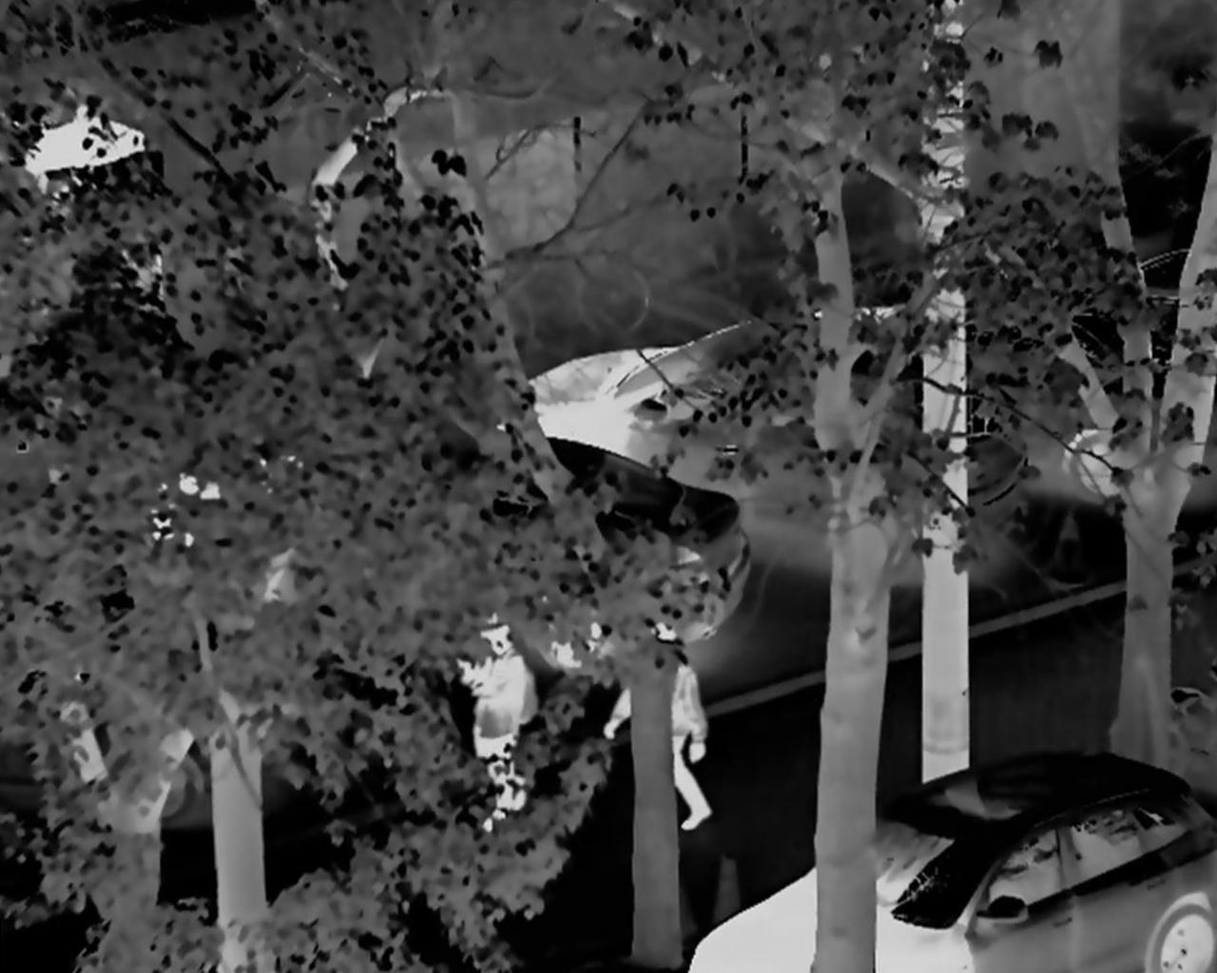person: (603, 617, 718, 830), (456, 622, 539, 855)
